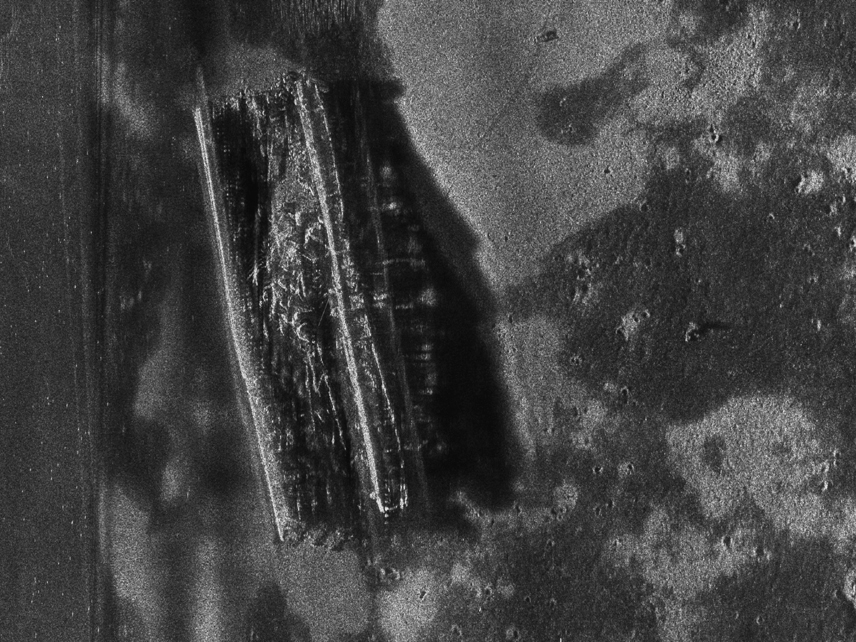ship: (187, 69, 429, 551)
